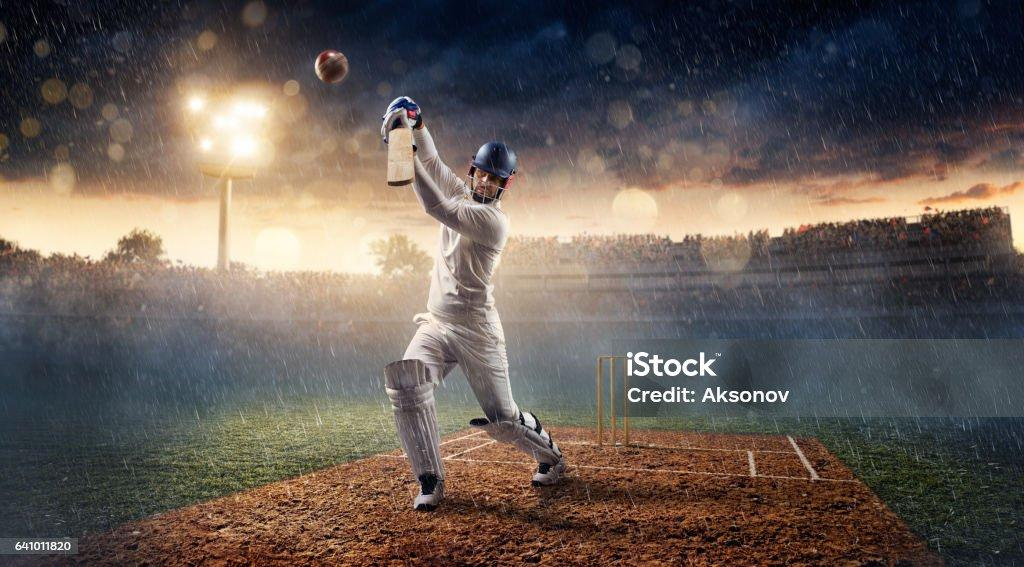batsman: (390, 68, 584, 503)
